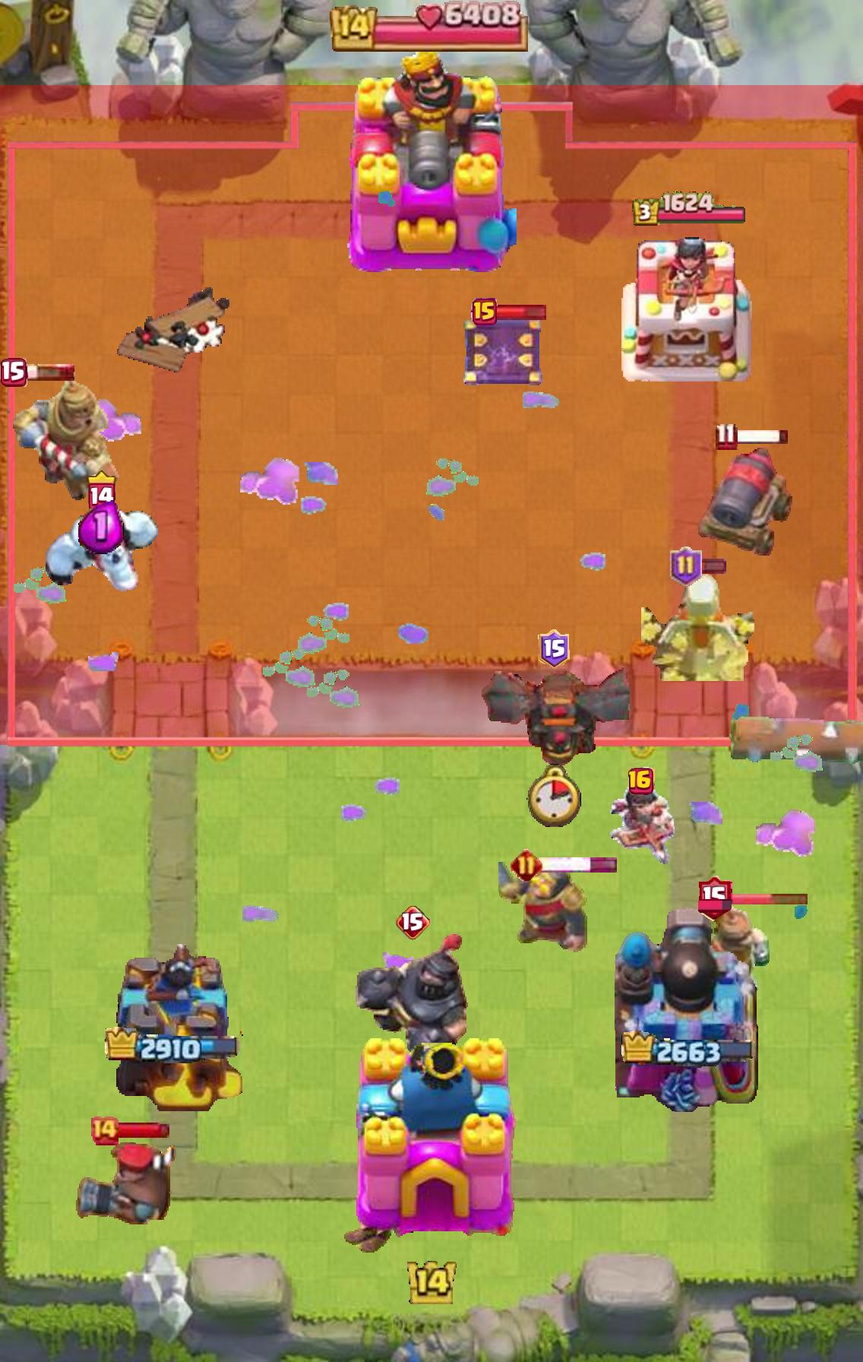bar: (539, 857, 619, 873), (728, 892, 810, 905), (21, 363, 75, 382), (115, 1122, 170, 1140), (734, 428, 790, 445), (494, 304, 547, 321), (698, 558, 727, 575)
bar-level: (699, 876, 733, 921), (87, 469, 117, 513), (670, 546, 702, 586), (538, 629, 570, 669), (396, 906, 430, 940), (511, 849, 542, 881), (89, 1116, 119, 1146), (0, 358, 27, 387), (471, 298, 498, 326), (628, 767, 654, 795), (715, 422, 738, 451)
